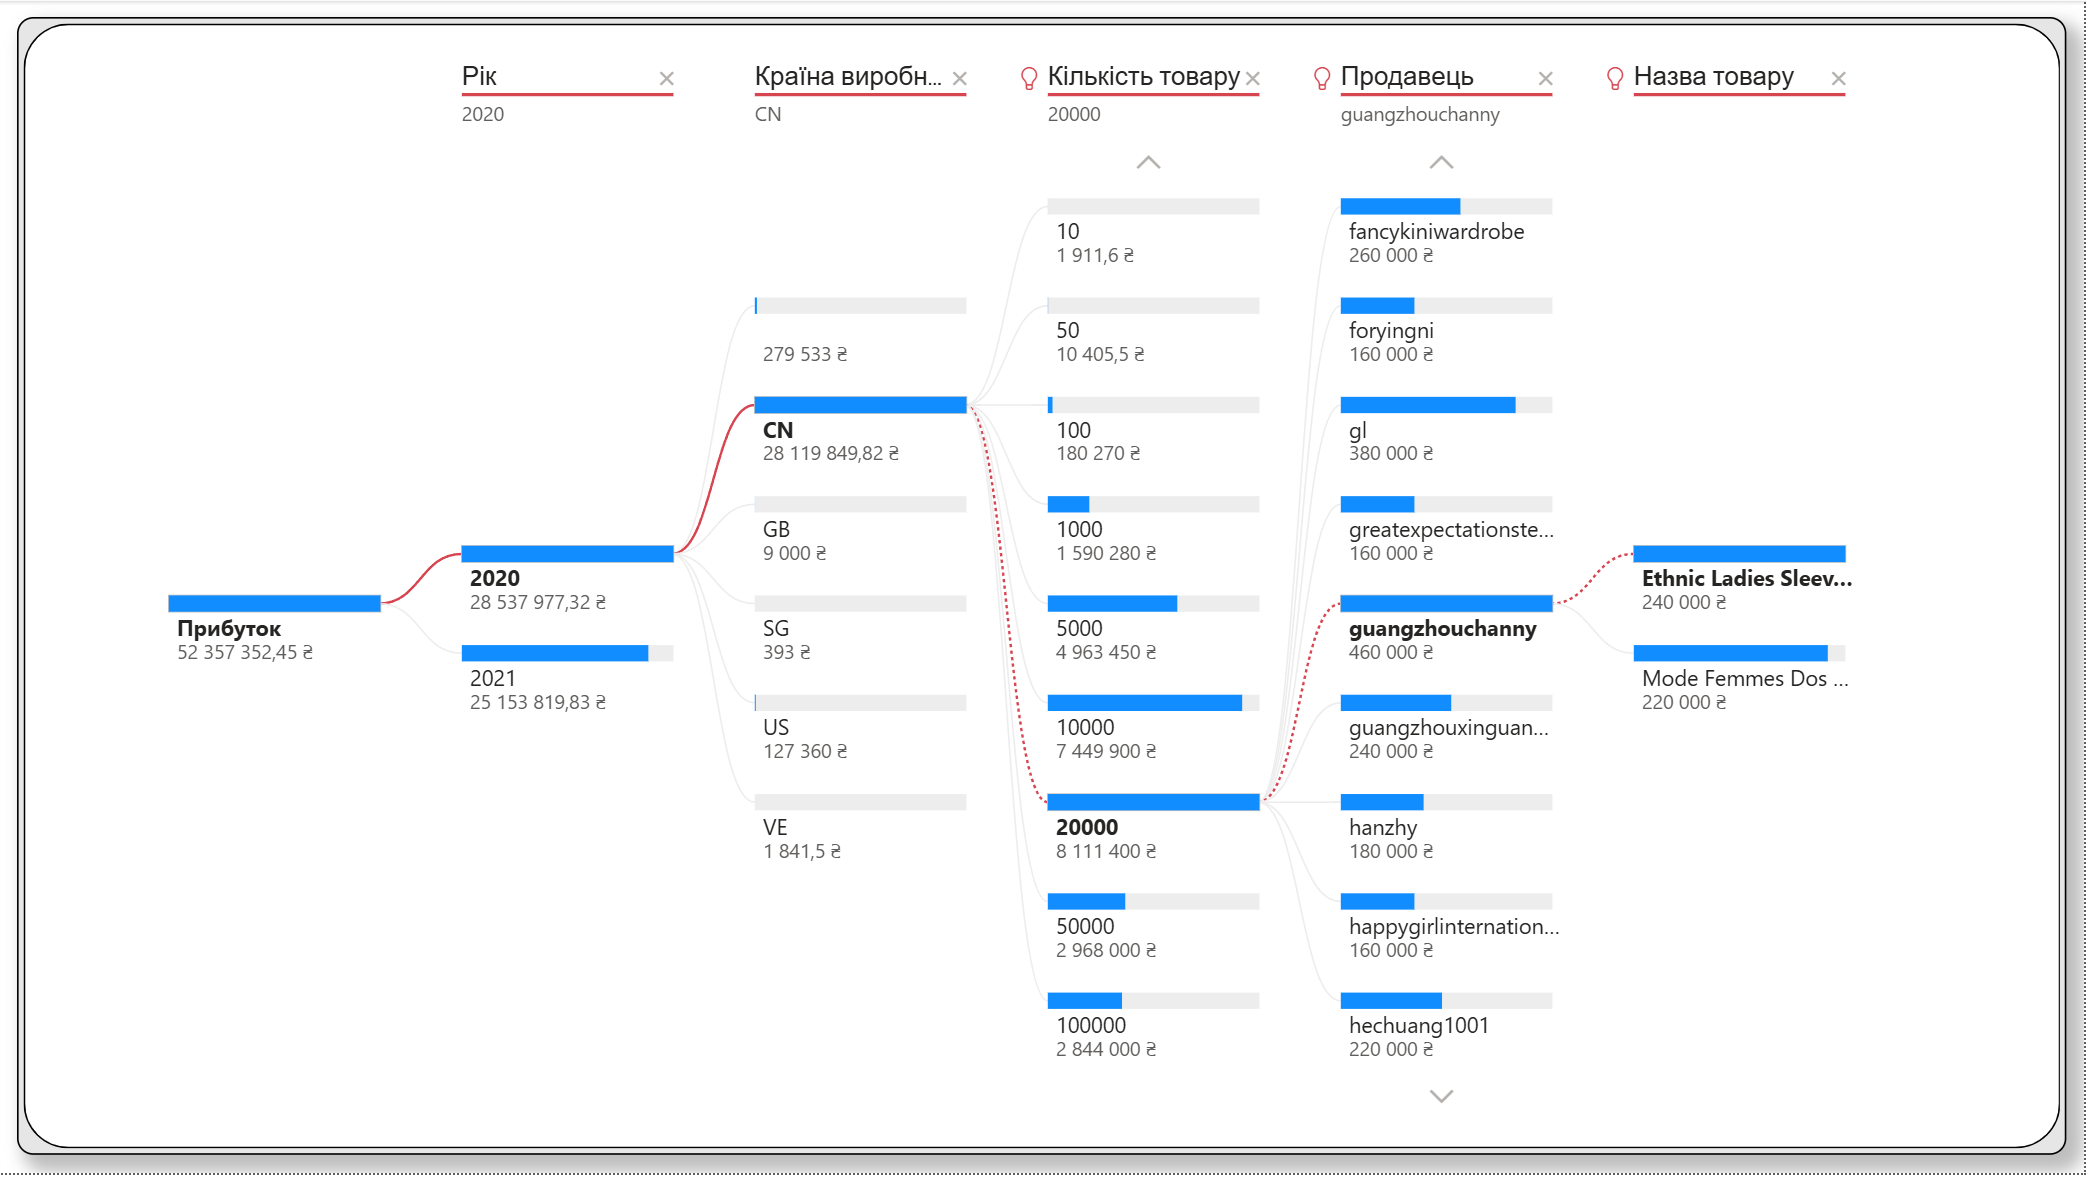

The dashboard page shown, as its layout file describes it:
{"tool":"powerbi","page":{"name":"Дерево декомпозицій","canvas":[1280,720],"ordinal":2},"visuals":[{"type":"shape","box":[10.4,9.8,1259.4,699.1],"z":1000},{"type":"decompositionTreeVisual","fields":{"ExplainBy":["calendar.Date.Варіація.Ієрархія дат.Рік","Main_Table.origin_country","Product_Details_Table.units_sold","Sellers_Table.merchant_name","Main_Table.title"],"Analyze":["Product_Details_Table.Total Revenue"]},"box":[73.7,21.5,1132.2,676.4],"z":2000}]}

Visuals, with their boxes in screenshot pixels (x1, y1, x2, y2), scaled from the page's 1280x720 canvas onto the 2086x1177 screenshot:
shape: (x1=17, y1=16, x2=2069, y2=1159)
decompositionTreeVisual - calendar.Date.Варіація.Ієрархія дат.Рік x Main_Table.origin_country: (x1=120, y1=35, x2=1965, y2=1141)
